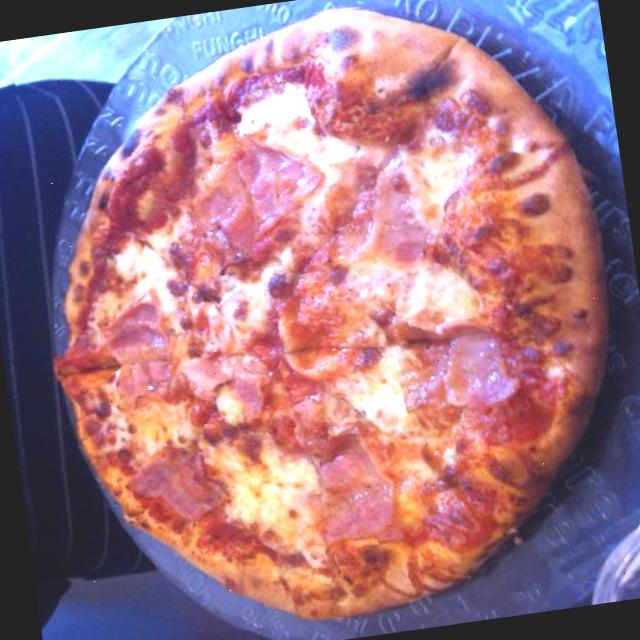pizza: (54, 9, 608, 618)
